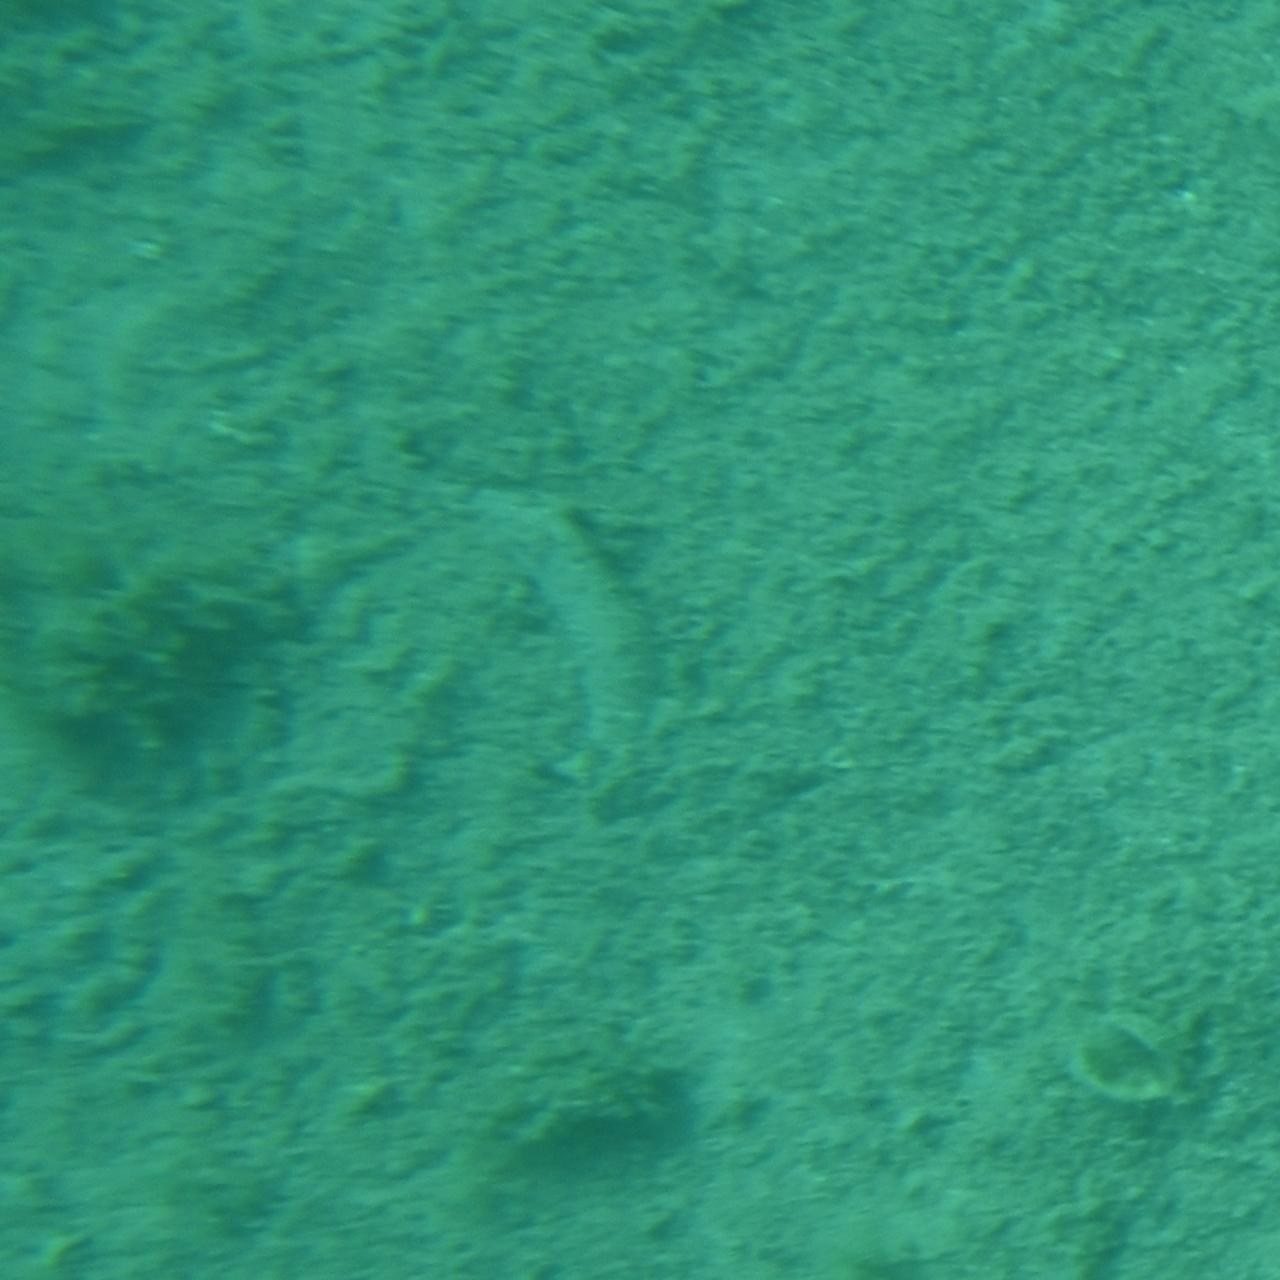Holothuria tubulosa: (465, 467, 659, 813)
